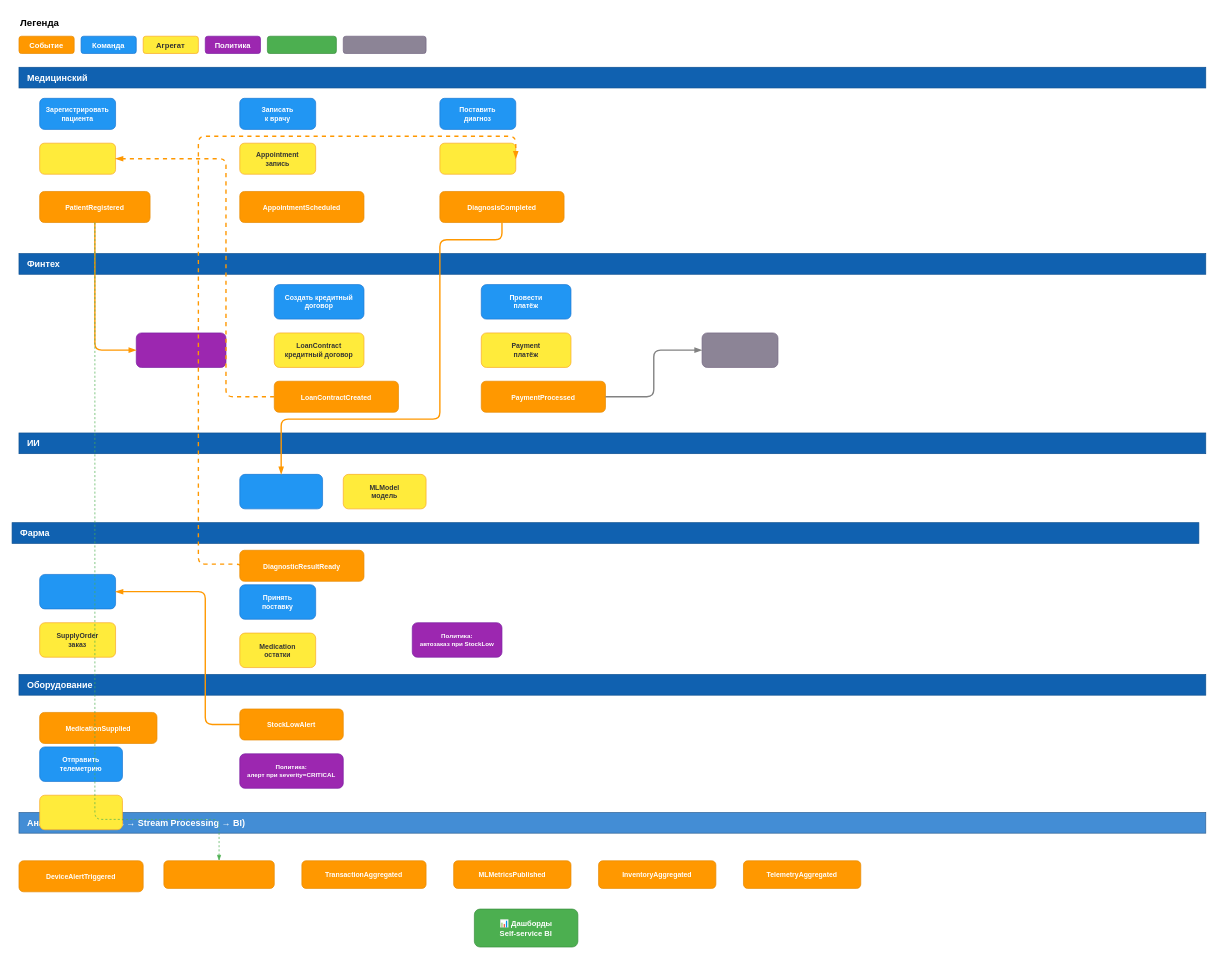
Image size: 1218x959. Some labels were removed from this diagram. The centre of each missing label's shape, as x and y in pixels:
Device устройство: point (80, 812)
Diagnosis диагноз: point (477, 158)
Patient пациент: point (77, 158)
PatientAggregated: point (218, 874)
Внешняя система: point (384, 44)
Заказать поставку: point (77, 591)
Запустить ML-анализ: point (281, 491)
Модель чтения: point (301, 44)
Платёжные системы: point (739, 349)
Политика: проверка patient_id: point (181, 349)
